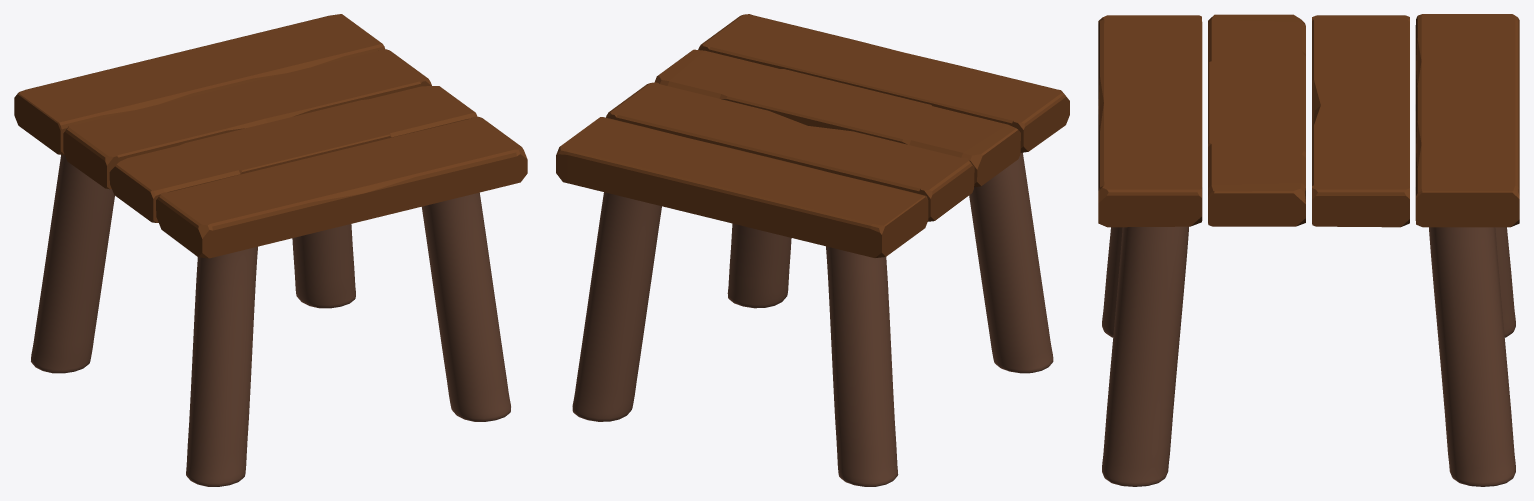
The model's file is Coffee_table.fbx.
3 views of the same model, side by side, from view 1: azimuth 30°, elevation 25°; view 2: azimuth 150°, elevation 25°; view 3: azimuth 270°, elevation 25° (orthographic). The views are drawn at different scales.
Parts seen in each view (by area): view 1: Coffee_table; view 2: Coffee_table; view 3: Coffee_table.
Boxes of the visible parts, left/top/right/bottom form: Coffee_table: left=14, top=14, right=527, bottom=486; Coffee_table: left=556, top=14, right=1069, bottom=486; Coffee_table: left=1098, top=14, right=1519, bottom=486.
Size of the model in its own units: 71.7 by 56.19 by 71.71.
